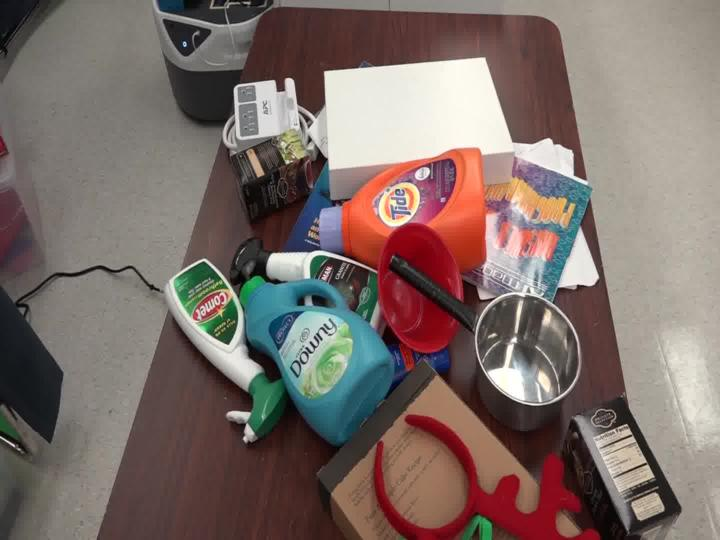downy: (214, 251, 417, 461)
